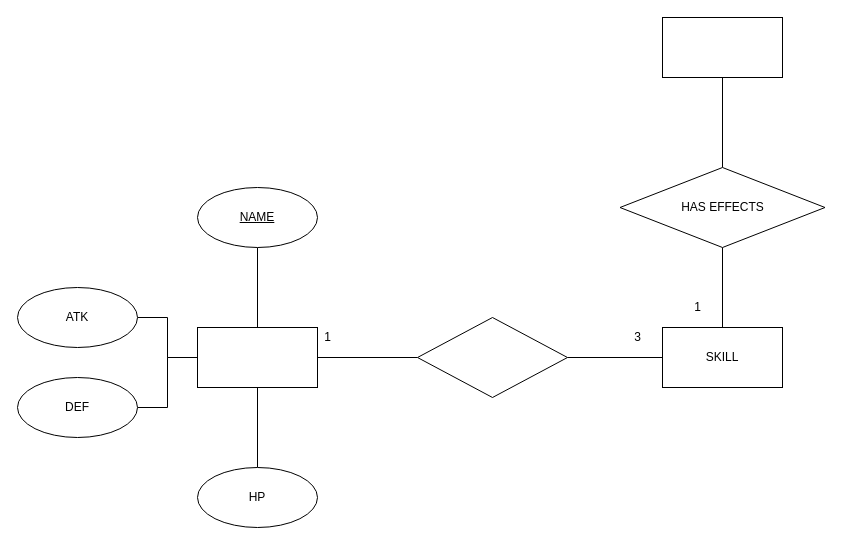
Some shapes in this 843 by 545 pixel diagram are drawn without their labels. Each missing label, with the box of its shape:
Character: (196, 326, 318, 388)
EFFECT: (662, 16, 782, 78)
HAS SKILL: (416, 316, 568, 398)
